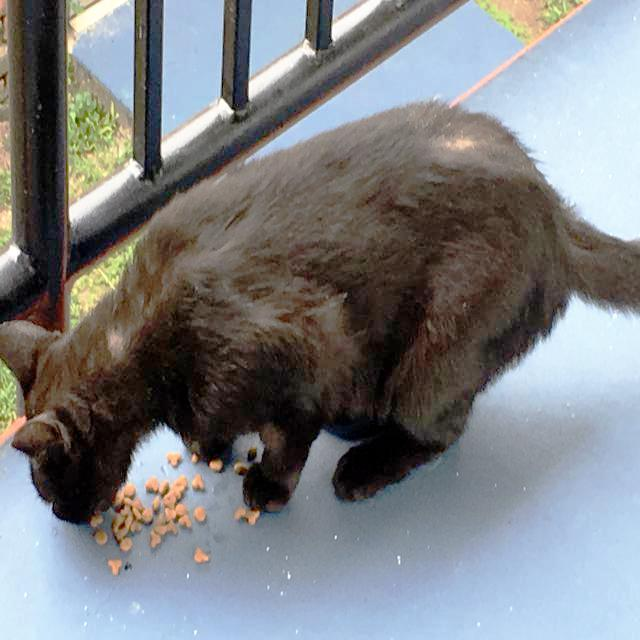hairloss: (432, 116, 500, 160), (110, 338, 122, 354), (264, 313, 272, 324)
